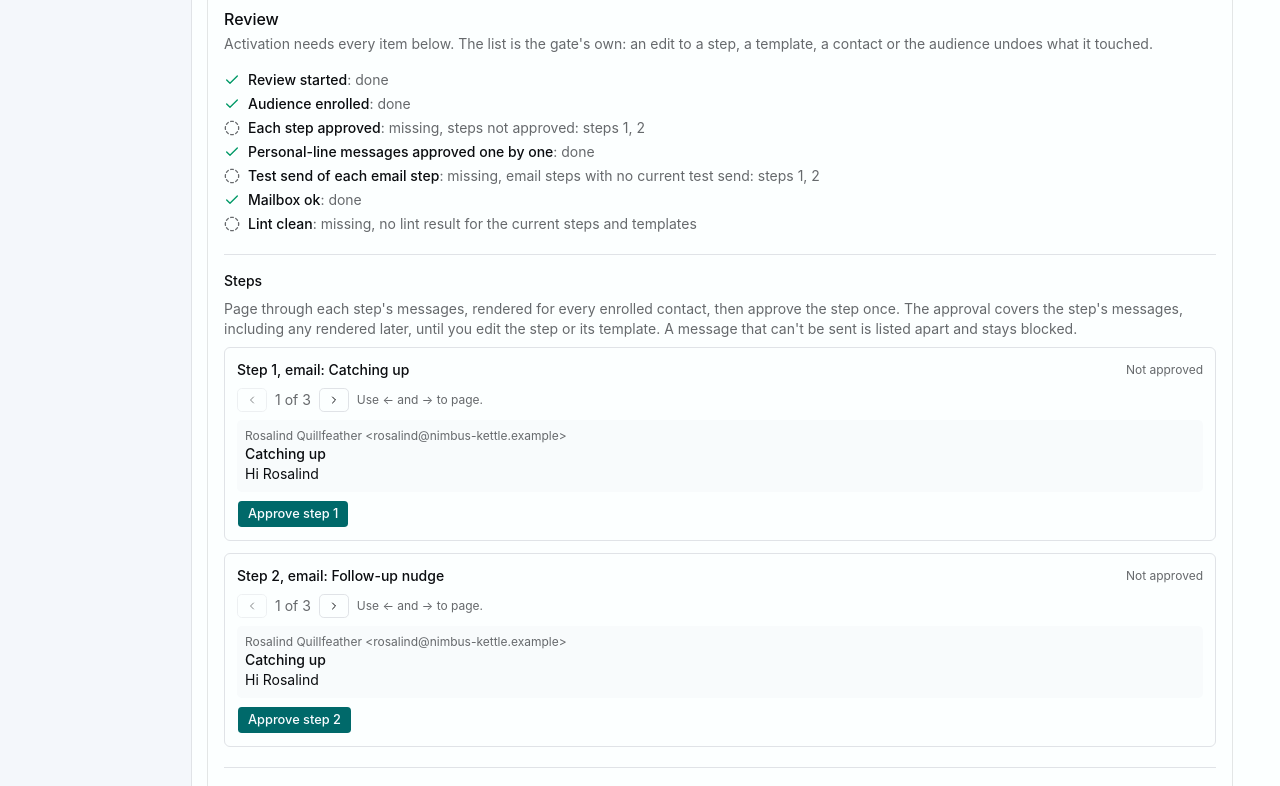
it: step review › pages through every message with the buttons and the arrow keys
The image size is (1280, 786).
(page scrolled)
Expected: the text "1 of 3" below "Step 1, email: Catching up" is shown, [275,390,311,410]
Expected: the element named "Message to Rosalind Quillfeather" shows "Hi Rosalind", [245,465,319,482]
Step 1. Click the button named "Next message" below "Step 1, email: Catching up" → (334, 400), box [319,388,349,412]
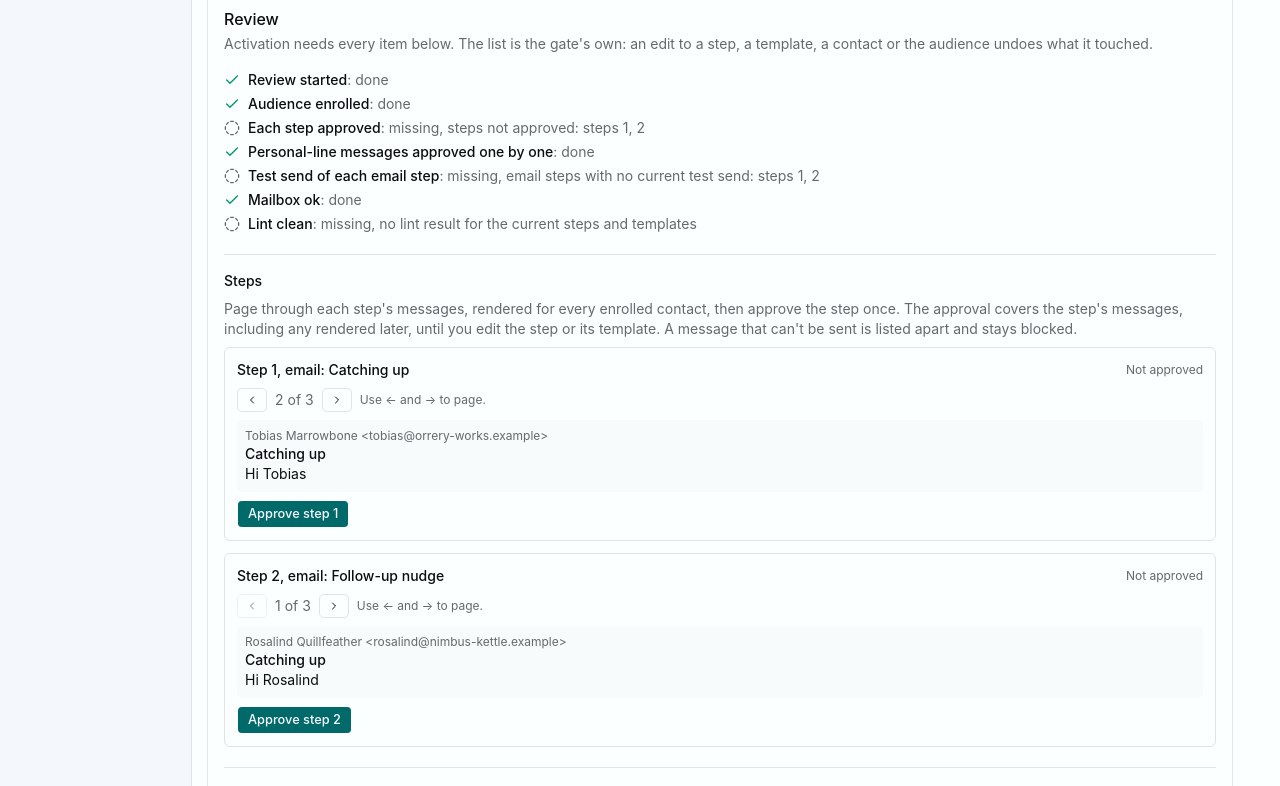
Expected: the text "2 of 3" is shown, [275,390,314,410]
Expected: the element named "Message to Tobias Marrowbone" shows "Hi Tobias", [245,465,306,482]
Step 2. Press ArrowRight in the element named "Messages of step 1", box [237,388,1203,492]
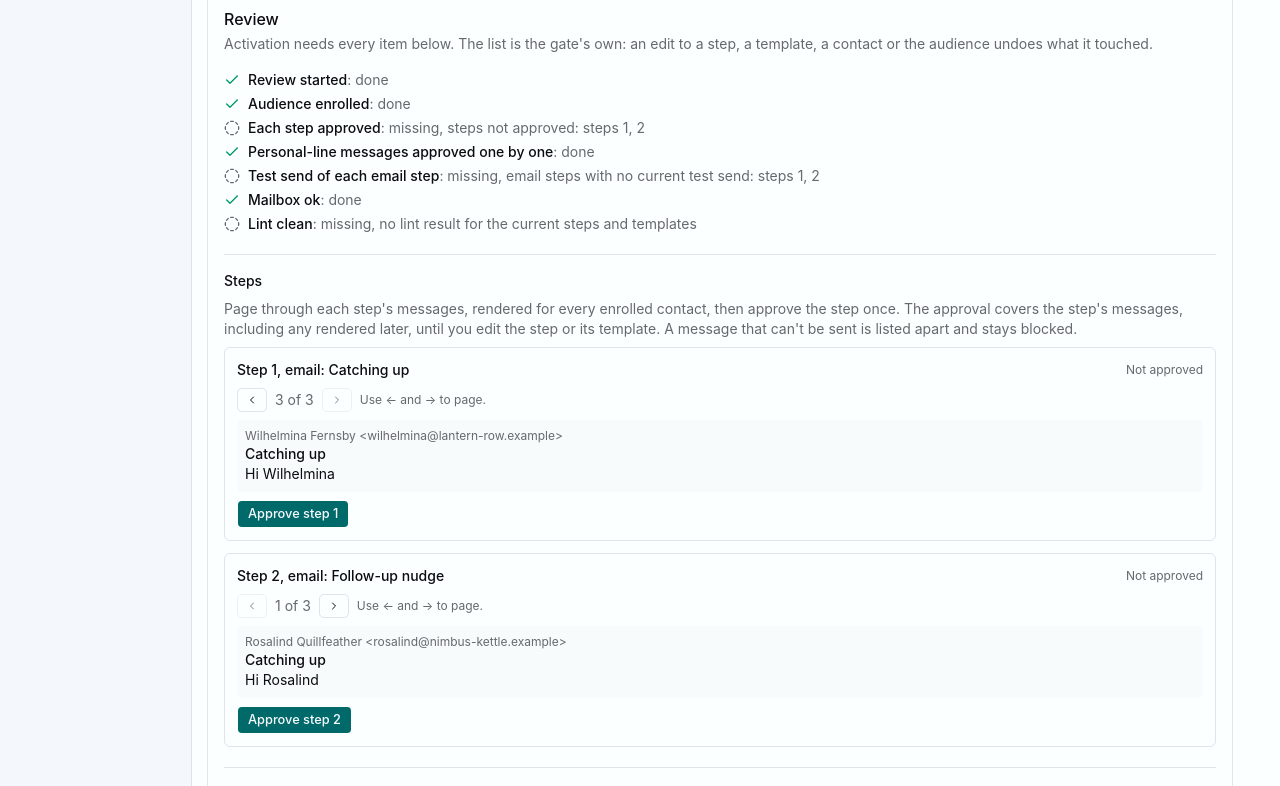
Expected: the text "3 of 3" is shown, [275,390,314,410]
Expected: the element named "Message to Wilhelmina Fernsby" shows "Hi Wilhelmina", [245,465,335,482]
Expected: the button named "Next message" below "Step 1, email: Catching up" is disabled, [322,388,352,412]
Step 3. Press ArrowRight in the element named "Messages of step 1", box [237,388,1203,492]
Expected: the text "3 of 3" is shown, [275,390,314,410]
Step 4. Press ArrowLeft in the element named "Messages of step 1", box [237,388,1203,492]
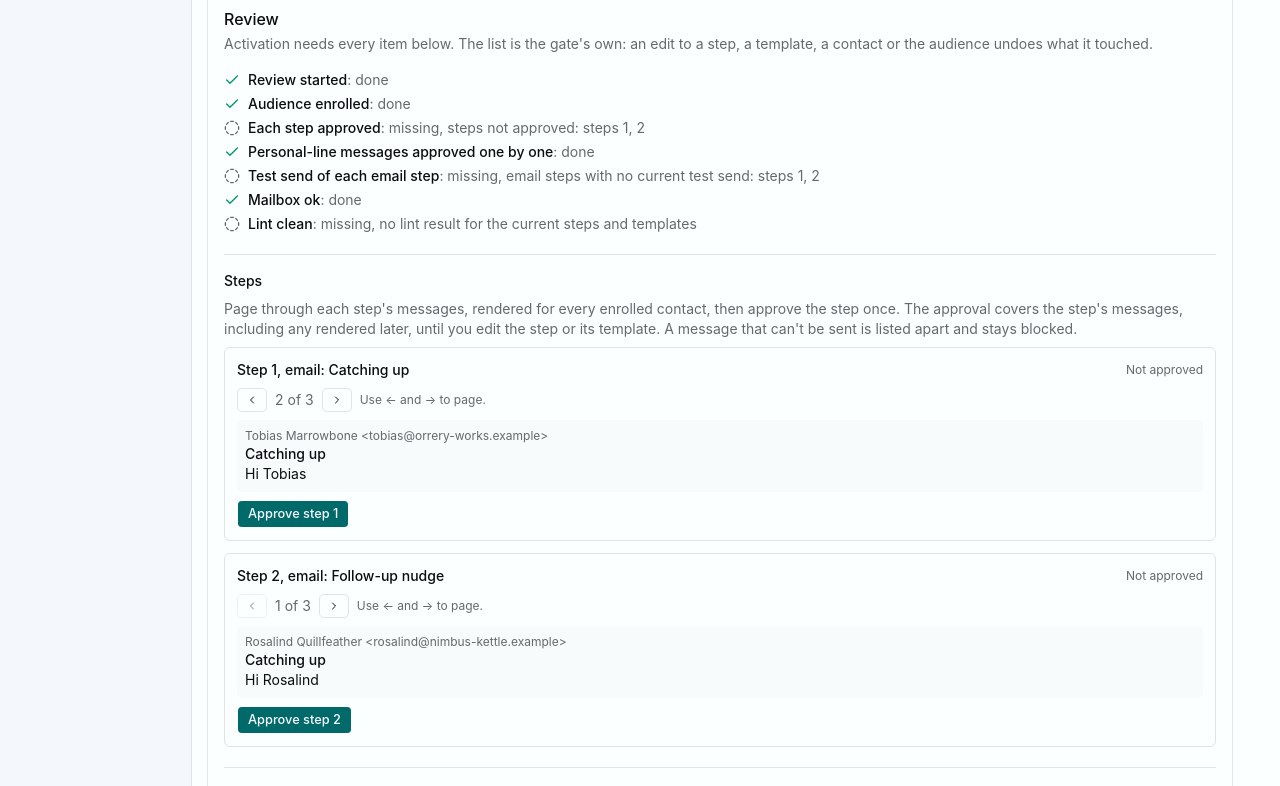
Step 5. Press ArrowLeft in the element named "Messages of step 1", box [237,388,1203,492]
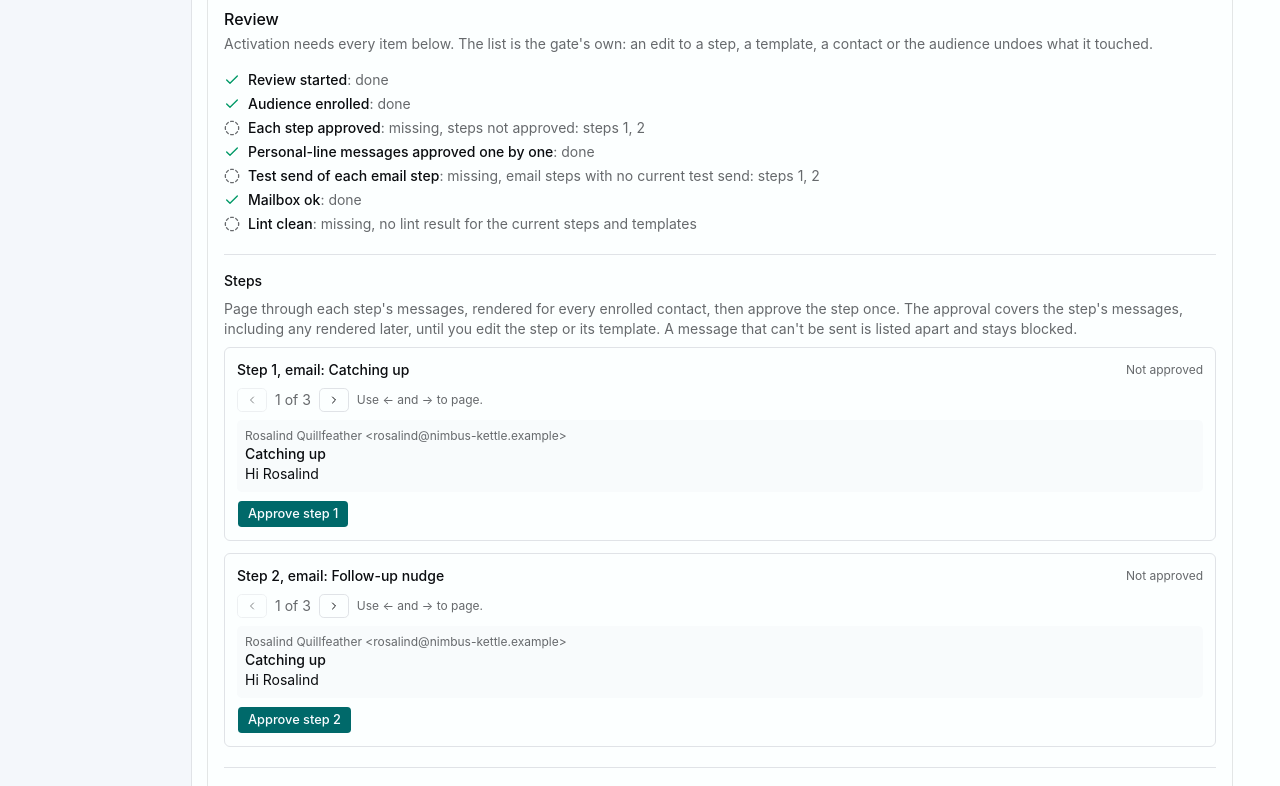
Expected: the text "1 of 3" below "Step 1, email: Catching up" is shown, [275,390,311,410]
Expected: the element named "Message to Rosalind Quillfeather" shows "Hi Rosalind", [245,465,319,482]
